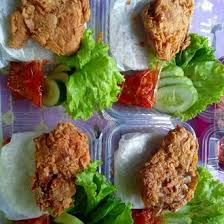ayam_geprek: (133, 126, 203, 218), (36, 118, 88, 215), (11, 1, 92, 56), (140, 2, 187, 50)
